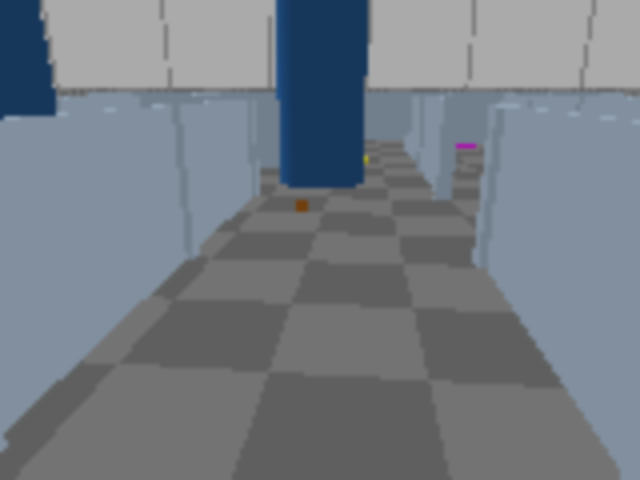goal_zone: (435, 144, 482, 150)
person: (0, 0, 71, 338)
